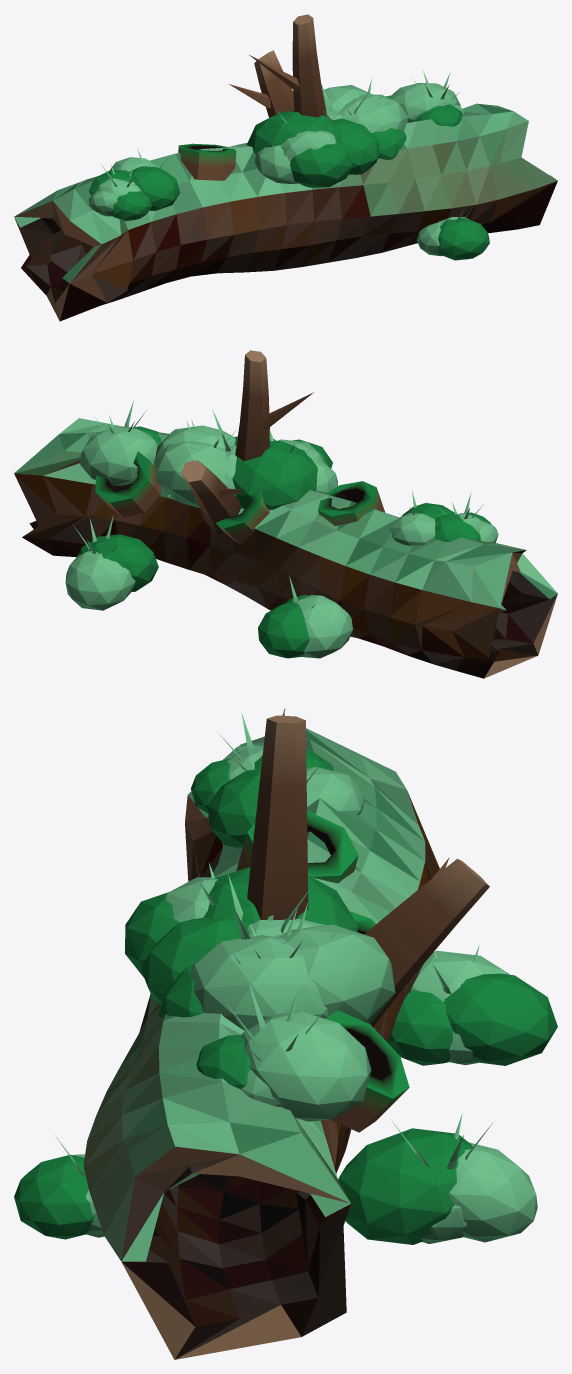
The model's file is pohon_tumbang_hollow_rainforest_773529.glb.
3 views of the same model, one above another, from view 1: azimuth 30°, elevation 25°; view 2: azimuth 150°, elevation 25°; view 3: azimuth 270°, elevation 25° (orthographic). The views are drawn at different scales.
Visible parts, largest first — view 1: Batang_Pohon_Berlubang; view 2: Batang_Pohon_Berlubang; view 3: Batang_Pohon_Berlubang.
Boxes of the visible parts, left/top/right/bottom form: Batang_Pohon_Berlubang: left=14, top=14, right=557, bottom=321; Batang_Pohon_Berlubang: left=14, top=350, right=557, bottom=678; Batang_Pohon_Berlubang: left=14, top=708, right=557, bottom=1359.
Size of the model in its own units: 6.55 by 3.18 by 3.42.
